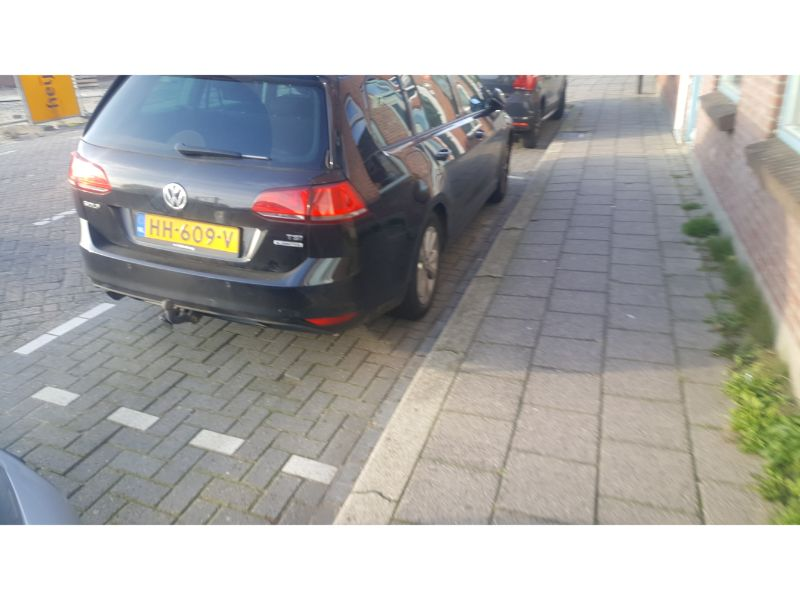kenteken: (133, 205, 243, 254)
